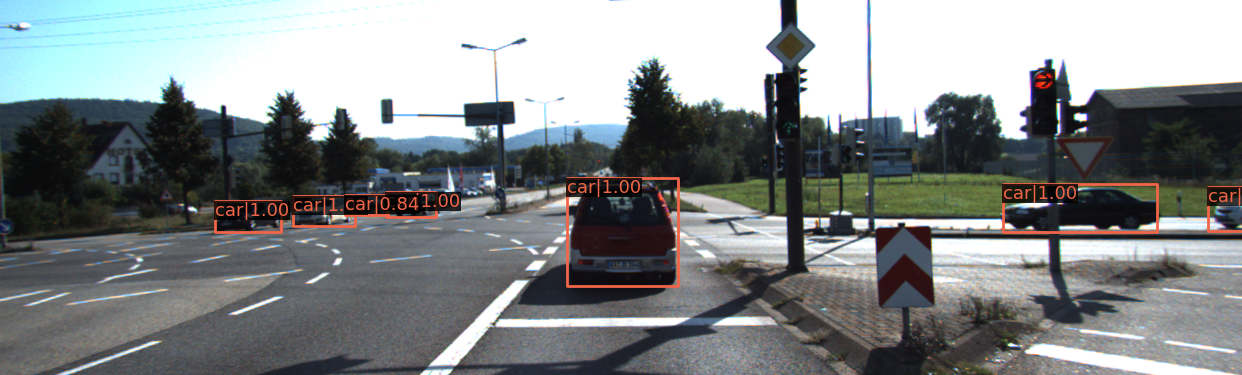car: (568, 182, 678, 286), (998, 182, 1161, 233), (214, 203, 283, 232), (291, 199, 355, 228), (1210, 182, 1242, 229), (393, 193, 441, 218)
